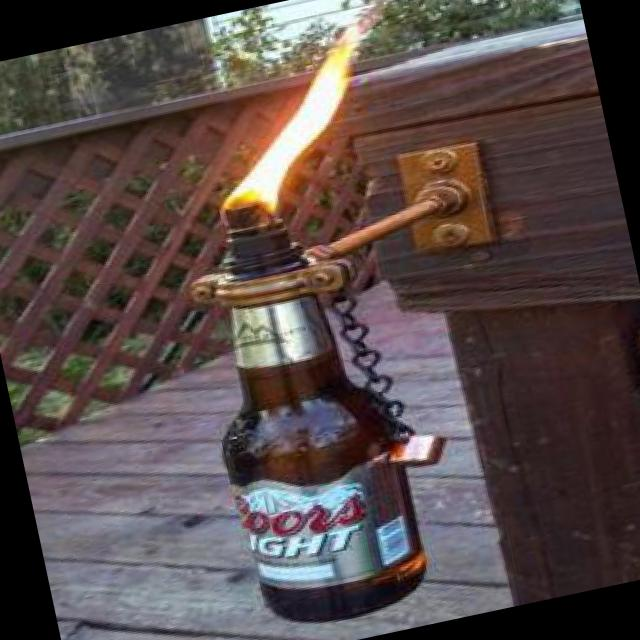Fire: (176, 12, 410, 228)
